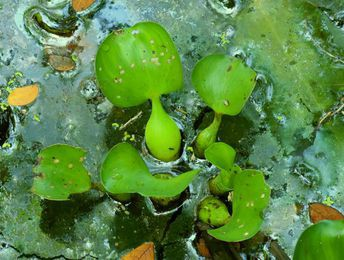water_hyacinth: (26, 13, 278, 243)
